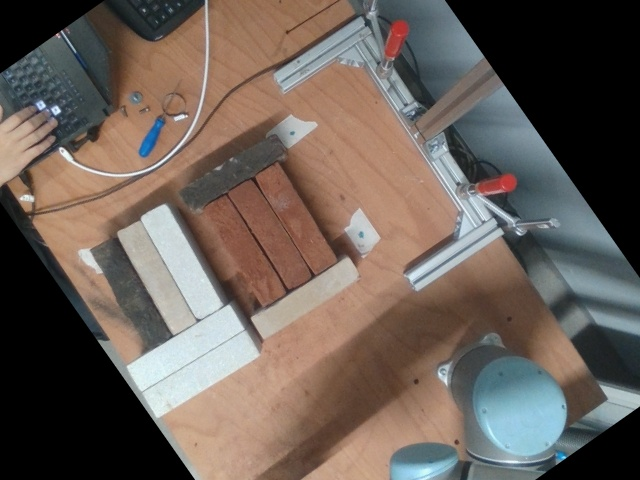brick-side: (127, 305, 244, 391), (142, 332, 259, 417), (138, 202, 222, 320), (114, 219, 198, 337), (253, 163, 336, 274), (202, 195, 285, 306), (89, 236, 170, 349), (229, 179, 311, 290), (251, 256, 359, 339), (180, 133, 286, 212)
